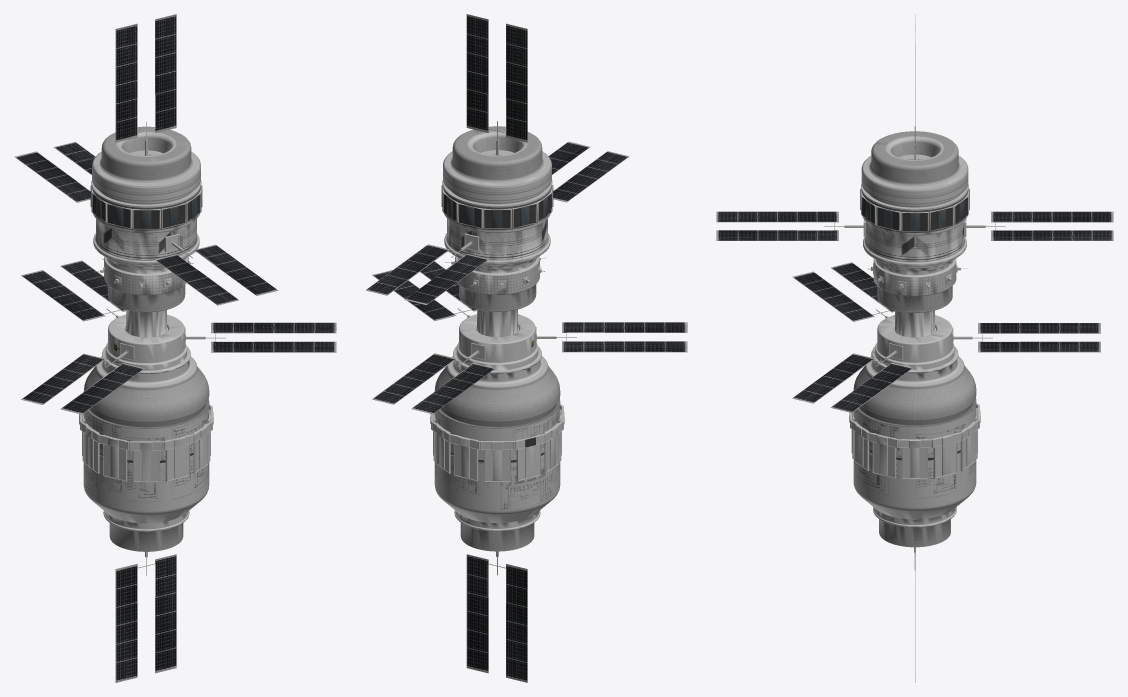
Rendered from space__station.glb.
3 views of the same model, side by side, from view 1: azimuth 30°, elevation 25°; view 2: azimuth 150°, elevation 25°; view 3: azimuth 270°, elevation 25° (orthographic). The views are drawn at different scales.
Visible parts, largest first — view 1: Cloner_6__0; view 2: Cloner_6__0; view 3: Cloner_6__0.
Boxes of the visible parts, box(x1,y1,x2,y2) form: Cloner_6__0: box(14, 14, 336, 682); Cloner_6__0: box(365, 14, 687, 682); Cloner_6__0: box(716, 14, 1113, 682).
Bounding box in the file's own units: 2.9 × 5.74 × 3.23.
Materials: 1 (1 with a texture image).
